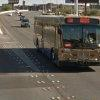Bus: (31, 11, 96, 70)
